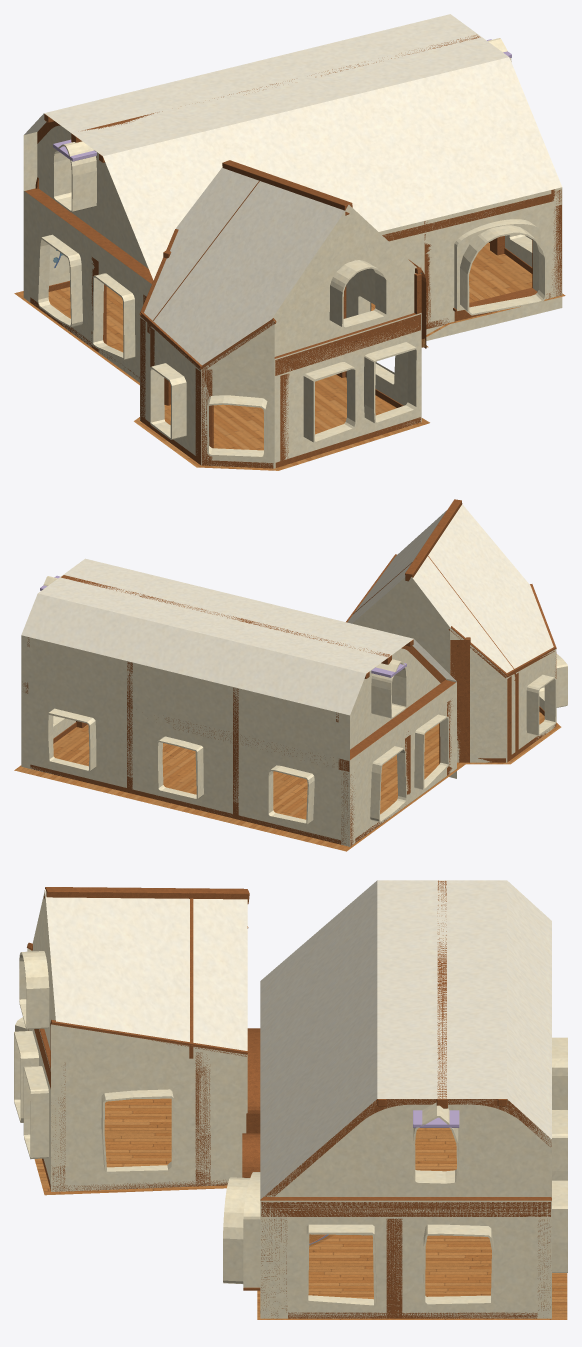
File: house_d_lining.glb
The picture shows the model from 3 angles, top to bottom: view 1: azimuth 30°, elevation 25°; view 2: azimuth 150°, elevation 25°; view 3: azimuth 270°, elevation 25°; orthographic projection. The views are drawn at different scales.
Visible parts, largest first — view 1: Architecture_Ceiling, Architecture_Walls, Architecture_Timber, Architecture_Floor; view 2: Architecture_Walls, Architecture_Ceiling, Architecture_Timber, Architecture_Floor; view 3: Architecture_Ceiling, Architecture_Walls, Architecture_Timber, Architecture_Floor.
Part boxes in pixels (left/top/right/bottom): Architecture_Ceiling: left=24, top=14, right=561, bottom=365; Architecture_Walls: left=23, top=38, right=562, bottom=468; Architecture_Timber: left=25, top=34, right=561, bottom=468; Architecture_Floor: left=14, top=242, right=565, bottom=470; Architecture_Walls: left=21, top=576, right=567, bottom=846; Architecture_Ceiling: left=21, top=504, right=553, bottom=715; Architecture_Timber: left=23, top=499, right=556, bottom=846; Architecture_Floor: left=14, top=712, right=561, bottom=851; Architecture_Ceiling: left=45, top=880, right=551, bottom=1199; Architecture_Walls: left=14, top=890, right=567, bottom=1318; Architecture_Timber: left=27, top=880, right=551, bottom=1318; Architecture_Floor: left=34, top=1098, right=567, bottom=1319.
Size of what is drawn, in the model's own units: 13 by 6.5 by 11.81.
5 materials, 5 textured.
